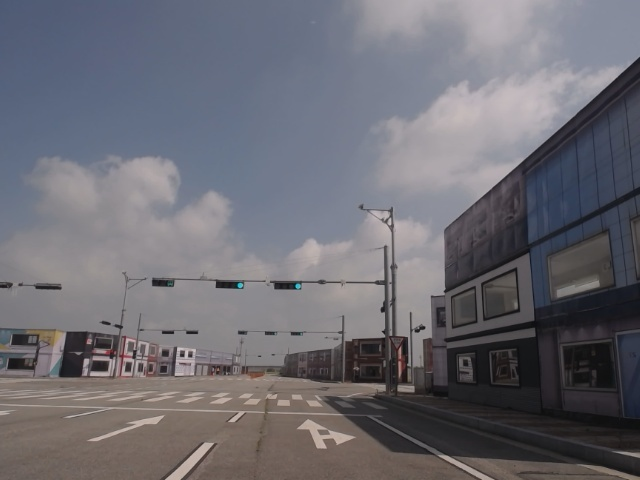straight_green_4: (215, 282, 245, 290), (276, 283, 302, 289)
